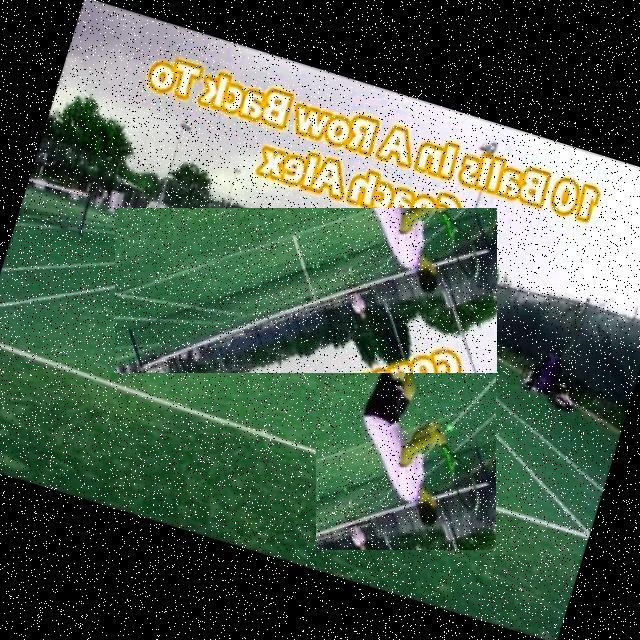court: (0, 222, 625, 634)
net: (115, 208, 497, 373)
player: (316, 264, 496, 550)
